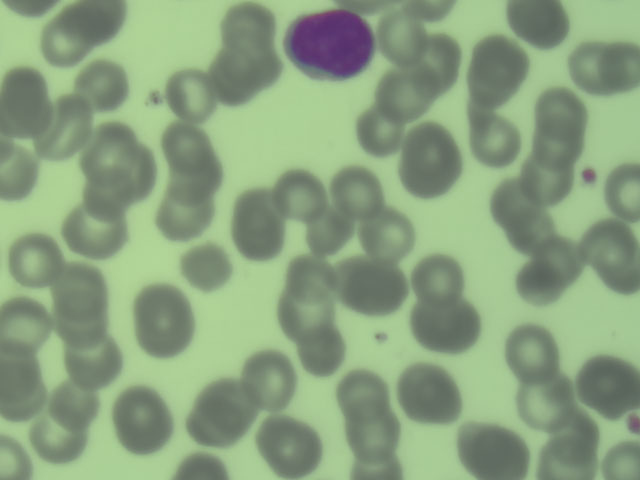Platelets: (577, 162, 603, 187), (143, 89, 167, 109), (624, 412, 640, 437)
RBC: (133, 293, 193, 363), (578, 349, 640, 414), (231, 186, 284, 262), (112, 384, 171, 451), (405, 125, 458, 193), (260, 421, 320, 479), (190, 385, 251, 442), (465, 430, 528, 480), (1, 70, 51, 131), (505, 1, 569, 46), (415, 306, 477, 352), (604, 156, 640, 230), (1, 146, 44, 207), (180, 239, 233, 288), (247, 355, 300, 404), (412, 255, 465, 304), (295, 328, 348, 377), (280, 291, 333, 340), (287, 249, 340, 298), (354, 262, 407, 311), (307, 208, 360, 257), (367, 212, 420, 261), (333, 166, 386, 215), (273, 166, 326, 215), (159, 122, 212, 171), (222, 2, 275, 51), (208, 55, 261, 104), (166, 70, 219, 119), (66, 206, 119, 255), (87, 165, 140, 214), (78, 125, 131, 174), (64, 341, 117, 390), (53, 298, 106, 347), (46, 378, 99, 427), (33, 415, 86, 464), (52, 264, 105, 313), (8, 236, 61, 285), (40, 107, 93, 156), (78, 58, 131, 107), (40, 15, 93, 64), (156, 189, 209, 238), (170, 150, 223, 199), (505, 327, 558, 376), (510, 257, 563, 306), (349, 410, 402, 459), (333, 366, 386, 415), (402, 367, 455, 416), (584, 223, 637, 272), (535, 229, 588, 278), (505, 204, 558, 253), (487, 178, 540, 227), (520, 149, 573, 198), (534, 119, 587, 168), (533, 82, 586, 131), (569, 41, 622, 90), (469, 114, 522, 163), (475, 42, 528, 91), (354, 106, 407, 155), (381, 69, 434, 118), (415, 39, 468, 88), (373, 11, 426, 60), (542, 408, 595, 457), (518, 378, 571, 427), (74, 1, 127, 49), (1, 299, 52, 348), (599, 36, 640, 95), (1, 371, 43, 426), (341, 450, 412, 480), (540, 443, 594, 480), (1, 342, 41, 391), (177, 448, 237, 480), (1, 429, 35, 480), (600, 443, 640, 480)
WBC: (286, 9, 376, 89)
